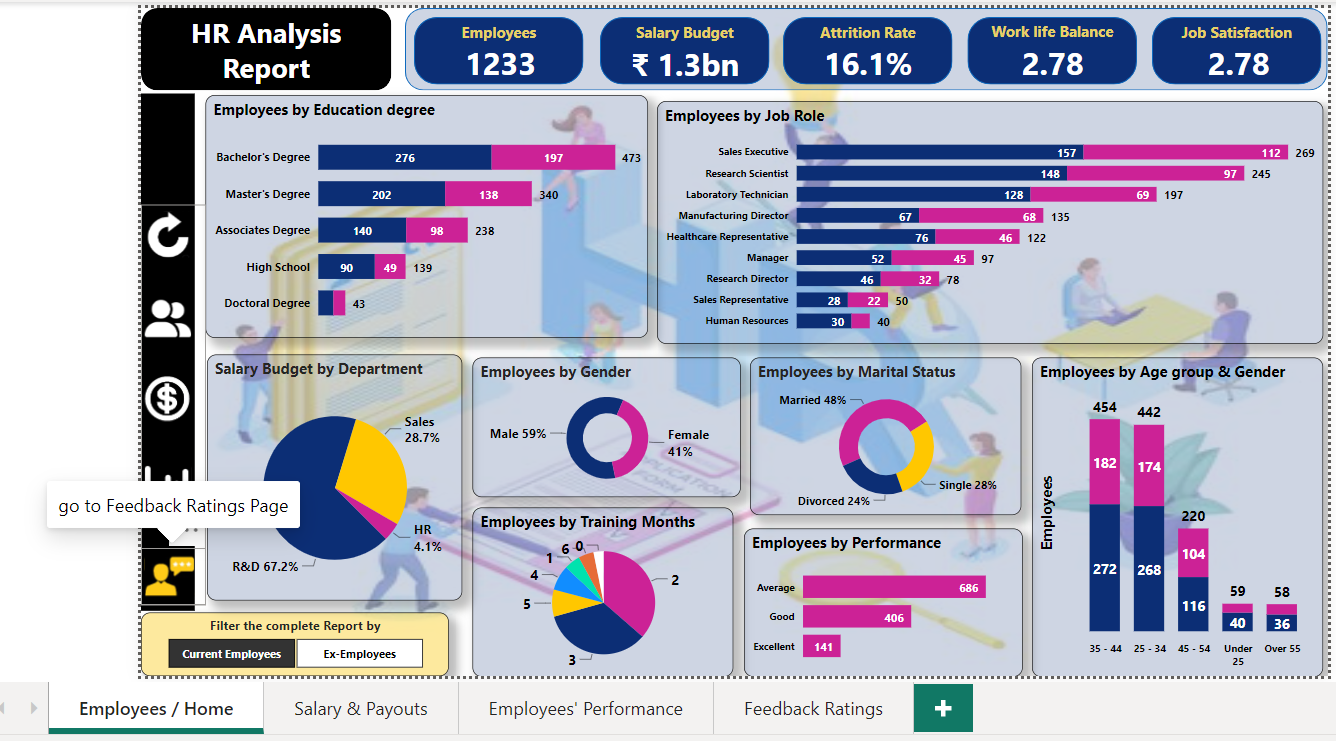

The dashboard page shown, as its layout file describes it:
{"tool":"powerbi","page":{"name":"Employees / Home","canvas":[1280,720],"ordinal":0},"visuals":[{"type":"shape","title":"Report Title grp","box":[0,0,270.2,89],"z":0},{"type":"shape","title":"backgroung","box":[284.8,0,995.1,89],"z":0,"group":"g3"},{"type":"shape","box":[294.5,9.4,182.8,72.8],"z":0,"group":"g2"},{"type":"shape","box":[494.7,9.4,182.8,72.8],"z":0,"group":"g1"},{"type":"shape","box":[693.3,9.4,182.8,72.8],"z":0,"group":"g4"},{"type":"shape","box":[1090.6,9.4,182.8,72.8],"z":0,"group":"g5"},{"type":"shape","box":[891.9,10.2,182.8,72.8],"z":0,"group":"g7"},{"type":"actionButton","box":[0,212,58.2,64.7],"z":0,"group":"g8"},{"type":"pieChart","title":"Salary Budget by Department","fields":{"Category":["Employees.Department"],"Y":["Measures Table.#10 Salary Budget"]},"box":[70.5,372.3,275.1,265.3],"z":0,"group":"g6"},{"type":"textbox","box":[891.9,8.6,182.8,37.2],"z":1000,"group":"g7"},{"type":"textbox","box":[294.5,9.4,182.8,37.2],"z":1000,"group":"g2"},{"type":"group","id":"g1","title":"Group 1","box":[494.7,9.4,182.8,72.8],"z":1000,"group":"g3"},{"type":"textbox","box":[494.7,9.4,182.8,37.2],"z":1000,"group":"g1"},{"type":"textbox","box":[693.3,9.4,182.8,37.2],"z":1000,"group":"g4"},{"type":"textbox","box":[1090.6,9.4,182.8,37.2],"z":1000,"group":"g5"},{"type":"shape","box":[0,92.2,58.2,558.2],"z":1000},{"type":"actionButton","box":[0,305.8,58.2,58.2],"z":1000,"group":"g8"},{"type":"columnChart","title":"Employees by Age group & Gender","fields":{"Category":["Employees.Age Group"],"Y":["Measures Table.#1 Total Employees"],"Series":["Employees.Gender"]},"box":[960.4,375.5,313.9,344.6],"z":1000,"group":"g6"},{"type":"group","id":"g2","title":"Group 2","box":[294.5,9.4,184.4,72.8],"z":2000,"group":"g3"},{"type":"card","title":"card","fields":{"Values":["Measures Table.#1 Total Employees"]},"box":[296.1,35.3,182.8,46.9],"z":2000,"group":"g2"},{"type":"card","title":"card","fields":{"Values":["Measures Table.#5 Attrition Rate"]},"box":[693.3,35.3,182.8,46.9],"z":2000,"group":"g4"},{"type":"card","title":"card","fields":{"Values":["Measures Table.#7 Rating Job Satisfaction"]},"box":[1092.2,35.3,182.8,46.9],"z":2000,"group":"g5"},{"type":"card","title":"card","fields":{"Values":["Measures Table.#9 Rating Work life Balance"]},"box":[891.9,36.1,182.8,46.9],"z":2000,"group":"g7"},{"type":"card","title":"card","fields":{"Values":["Measures Table.#10 Salary Budget"]},"box":[494.7,38.5,182.8,43.7],"z":2000,"group":"g1"},{"type":"barChart","title":"Employees by Education degree","fields":{"Category":["Employees.Education"],"Y":["Measures Table.#1 Total Employees"],"Series":["Employees.Gender"]},"box":[69.4,93.1,477.3,262.1],"z":2000,"group":"g6"},{"type":"actionButton","box":[0,393.2,58.2,56.6],"z":2000,"group":"g8"},{"type":"slicer","title":"Filter the complete Report by","fields":{"Values":["Employees.attrition label"]},"box":[0,651.7,331.7,68.3],"z":2000},{"type":"group","id":"g3","title":"KPIs #group","box":[284.8,0,995.1,89],"z":3000},{"type":"group","id":"g4","title":"Group 3","box":[693.3,9.4,182.8,72.8],"z":3000,"group":"g3"},{"type":"donutChart","title":"Employees by Gender ","fields":{"Category":["Employees.Gender"],"Y":["Measures Table.#1 Total Employees"]},"box":[356.9,375.5,289.6,150.5],"z":3000,"group":"g6"},{"type":"actionButton","box":[0,479,58.2,74.4],"z":3000,"group":"g8"},{"type":"group","id":"g5","title":"Group 4","box":[1090.6,9.4,184.4,72.8],"z":4000,"group":"g3"},{"type":"group","id":"g6","title":"All charts #group","box":[69.4,93.1,1204.9,627],"z":4000},{"type":"donutChart","title":"Employees by Marital Status","fields":{"Y":["Measures Table.#1 Total Employees"],"Category":["Salary & Payouts.Marital Status"]},"box":[657.3,375.5,292.9,169.9],"z":4000,"group":"g6"},{"type":"actionButton","box":[0,582.5,69.6,61.5],"z":4000,"group":"g8"},{"type":"group","id":"g7","title":"Group 5","box":[891.9,8.6,182.8,74.4],"z":5000,"group":"g3"},{"type":"group","id":"g8","title":"Group 6","box":[0,212,69.6,432],"z":5000},{"type":"pieChart","title":"Employees by Training Months","fields":{"Category":["Salary & Payouts.Training Times Last Year (Months)"],"Y":["Measures Table.#1 Total Employees"]},"box":[356.9,537.3,281.5,182.8],"z":5000,"group":"g6"},{"type":"barChart","title":"Employees by Job Role","fields":{"Y":["Measures Table.#1 Total Employees"],"Series":["Employees.Gender"],"Category":["Employees.Job Role"]},"box":[555.9,98.8,718.4,262.1],"z":6000,"group":"g6"},{"type":"barChart","fields":{"Category":["Salary & Payouts.Performance"],"Y":["Measures Table.#1 Total Employees"]},"box":[649.7,560,300.9,160.2],"z":7000,"group":"g6"}]}

Visuals, with their boxes on the page's 1280x720 design canvas (x1, y1, x2, y2). These are canvas units, not pixel positions in the 1336x741 screenshot, which may show the page scaled, cropped or inside an application window:
"Report Title grp" shape: [0, 0, 270, 89]
"backgroung" shape: [285, 0, 1280, 89]
shape: [294, 9, 477, 82]
shape: [495, 9, 678, 82]
shape: [693, 9, 876, 82]
shape: [1091, 9, 1273, 82]
shape: [892, 10, 1075, 83]
actionButton: [0, 212, 58, 277]
"Salary Budget by Department" pieChart: [70, 372, 346, 638]
textbox: [892, 9, 1075, 46]
textbox: [294, 9, 477, 47]
"Group 1" group: [495, 9, 678, 82]
textbox: [495, 9, 678, 47]
textbox: [693, 9, 876, 47]
textbox: [1091, 9, 1273, 47]
shape: [0, 92, 58, 650]
actionButton: [0, 306, 58, 364]
"Employees by Age group & Gender" columnChart: [960, 376, 1274, 720]
"Group 2" group: [294, 9, 479, 82]
"card" card: [296, 35, 479, 82]
"card" card: [693, 35, 876, 82]
"card" card: [1092, 35, 1275, 82]
"card" card: [892, 36, 1075, 83]
"card" card: [495, 38, 678, 82]
"Employees by Education degree" barChart: [69, 93, 547, 355]
actionButton: [0, 393, 58, 450]
"Filter the complete Report by" slicer: [0, 652, 332, 720]
"KPIs #group" group: [285, 0, 1280, 89]
"Group 3" group: [693, 9, 876, 82]
"Employees by Gender " donutChart: [357, 376, 646, 526]
actionButton: [0, 479, 58, 553]
"Group 4" group: [1091, 9, 1275, 82]
"All charts #group" group: [69, 93, 1274, 720]
"Employees by Marital Status" donutChart: [657, 376, 950, 545]
actionButton: [0, 582, 70, 644]
"Group 5" group: [892, 9, 1075, 83]
"Group 6" group: [0, 212, 70, 644]
"Employees by Training Months" pieChart: [357, 537, 638, 720]
"Employees by Job Role" barChart: [556, 99, 1274, 361]
barChart - Salary & Payouts.Performance x Measures Table.#1 Total Employees: [650, 560, 951, 720]
